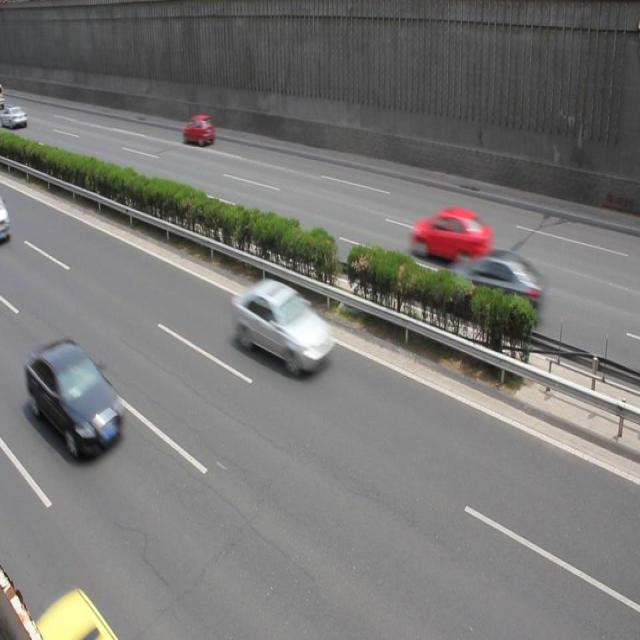car: (26, 335, 124, 460), (231, 278, 335, 377), (445, 247, 546, 330), (409, 210, 494, 266), (182, 114, 215, 147)
